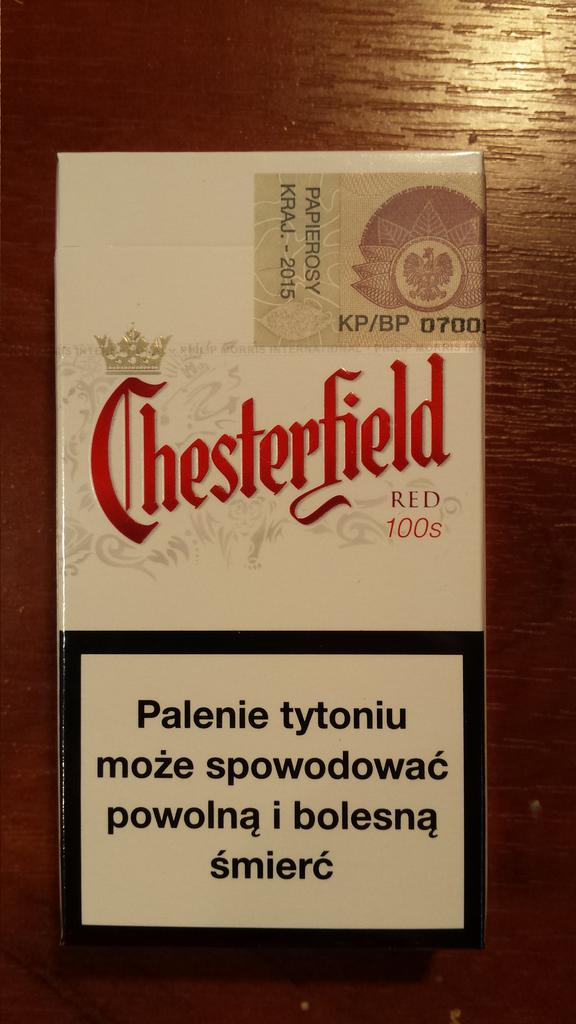chesterfield_red: (61, 153, 481, 950)
